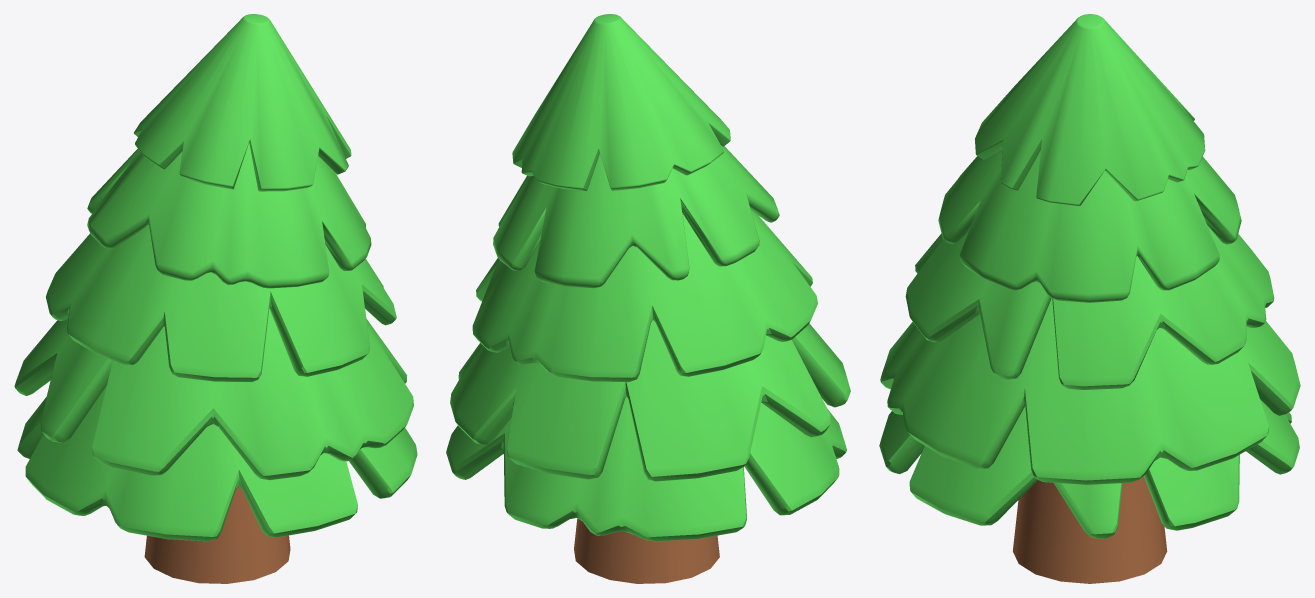
File: tree 2.fbx
3 renders of one model, left to right at view 1: azimuth 30°, elevation 25°; view 2: azimuth 150°, elevation 25°; view 3: azimuth 270°, elevation 25°, orthographic. The views are drawn at different scales.
Parts seen in each view (by area): view 1: Cylinder.002, Cylinder.003, Cylinder.001, Cylinder.004, Cylinder.005, Cylinder; view 2: Cylinder.002, Cylinder.003, Cylinder.001, Cylinder.004, Cylinder.005, Cylinder; view 3: Cylinder.002, Cylinder.004, Cylinder.003, Cylinder.005, Cylinder.001, Cylinder.
Boxes of the visible parts, x1,y1,x2,y2 form: Cylinder.002: [14, 309, 413, 480]; Cylinder.003: [46, 226, 396, 382]; Cylinder.001: [17, 385, 417, 541]; Cylinder.004: [87, 143, 371, 288]; Cylinder.005: [134, 14, 351, 191]; Cylinder: [144, 486, 290, 583]; Cylinder.002: [450, 320, 850, 481]; Cylinder.003: [472, 211, 817, 381]; Cylinder.001: [446, 396, 846, 541]; Cylinder.004: [493, 145, 779, 288]; Cylinder.005: [512, 14, 730, 191]; Cylinder: [574, 518, 719, 583]; Cylinder.002: [880, 298, 1300, 484]; Cylinder.004: [938, 149, 1241, 302]; Cylinder.003: [905, 227, 1274, 389]; Cylinder.005: [975, 14, 1205, 206]; Cylinder.001: [879, 401, 1299, 538]; Cylinder: [1013, 476, 1167, 583].
Size of the model in its own units: 409 by 588 by 407.
